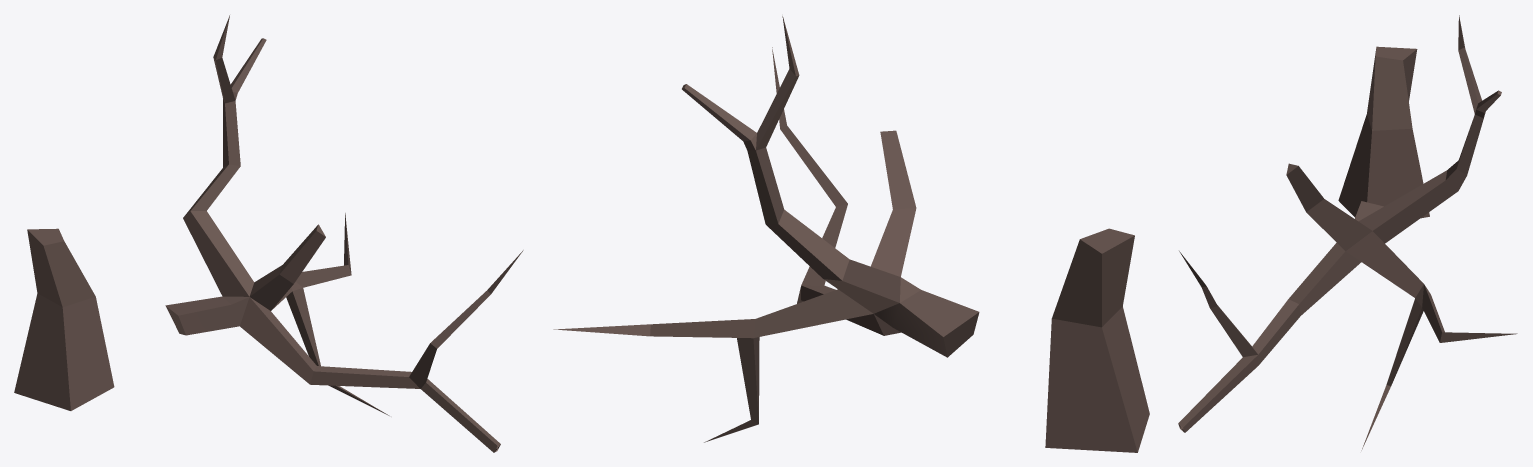
Rendered from deadtreebroken.fbx.
3 renders of one model, left to right at view 1: azimuth 30°, elevation 25°; view 2: azimuth 150°, elevation 25°; view 3: azimuth 270°, elevation 25°, orthographic. The views are drawn at different scales.
Parts seen in each view (by area): view 1: deadtreestump, deadtreesplit; view 2: deadtreestump, deadtreesplit; view 3: deadtreestump, deadtreesplit.
Part boxes in pixels (x1,y1,x2,y2): deadtreestump: (165, 15, 523, 452); deadtreesplit: (14, 228, 114, 410); deadtreestump: (553, 16, 979, 442); deadtreesplit: (1045, 228, 1149, 452); deadtreestump: (1178, 15, 1517, 450); deadtreesplit: (1338, 46, 1429, 218).
Size of the model in its own units: 7.12 by 6.77 by 5.42.
